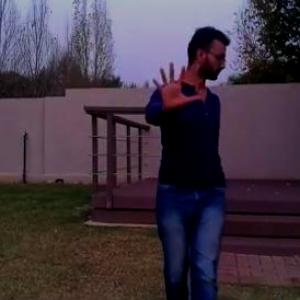follow_hand: (147, 57, 206, 117)
